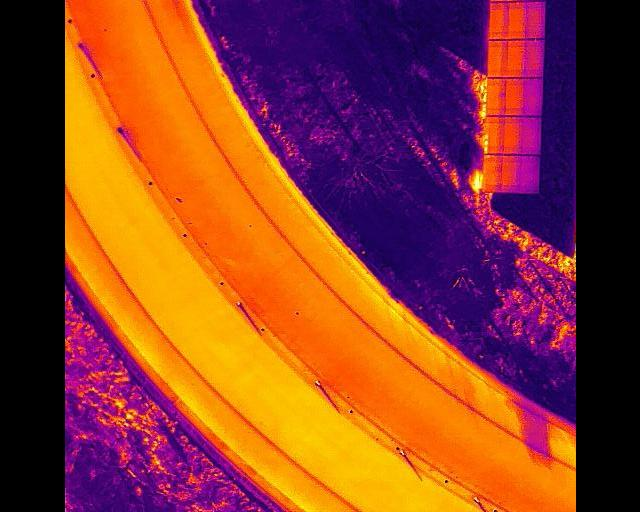Cell-Multi: (484, 117, 502, 154)
No-Anomaly: (516, 154, 539, 193), (520, 78, 540, 118), (498, 118, 520, 154), (521, 40, 542, 77), (504, 2, 525, 39), (519, 118, 539, 156), (500, 78, 520, 116), (525, 1, 544, 39), (498, 155, 516, 193), (482, 155, 501, 191), (504, 39, 521, 79), (487, 40, 504, 78), (488, 3, 504, 40), (484, 78, 500, 115)
